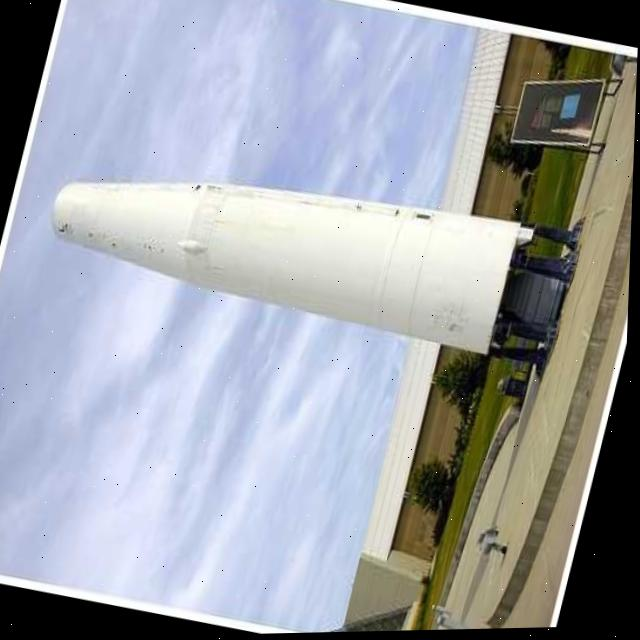missile: (33, 115, 589, 385)
